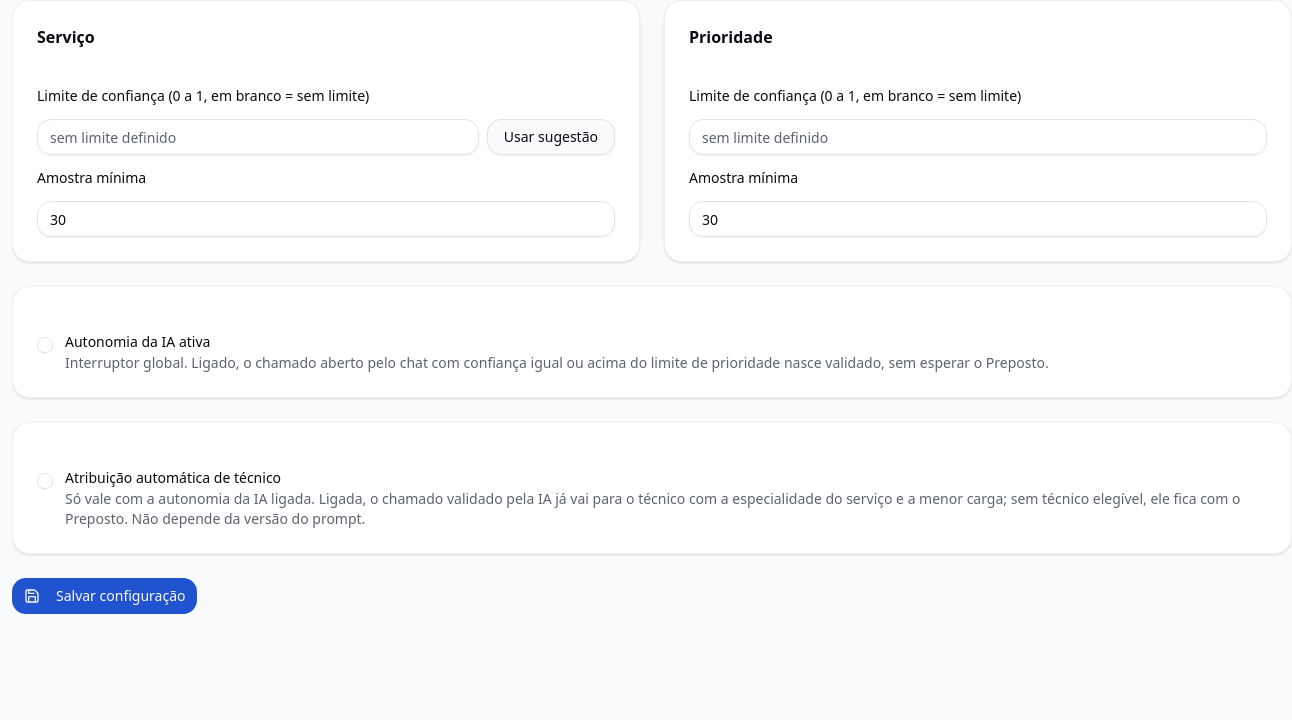
Test: IaConfiancaForm · aceitar a sugestão › preenche o limite do campo com o valor sugerido
What coordinates should you click on to do the following:
click the button "Usar sugestão"
I would click on:
 (551, 137)
Its box is [487,119,615,155].
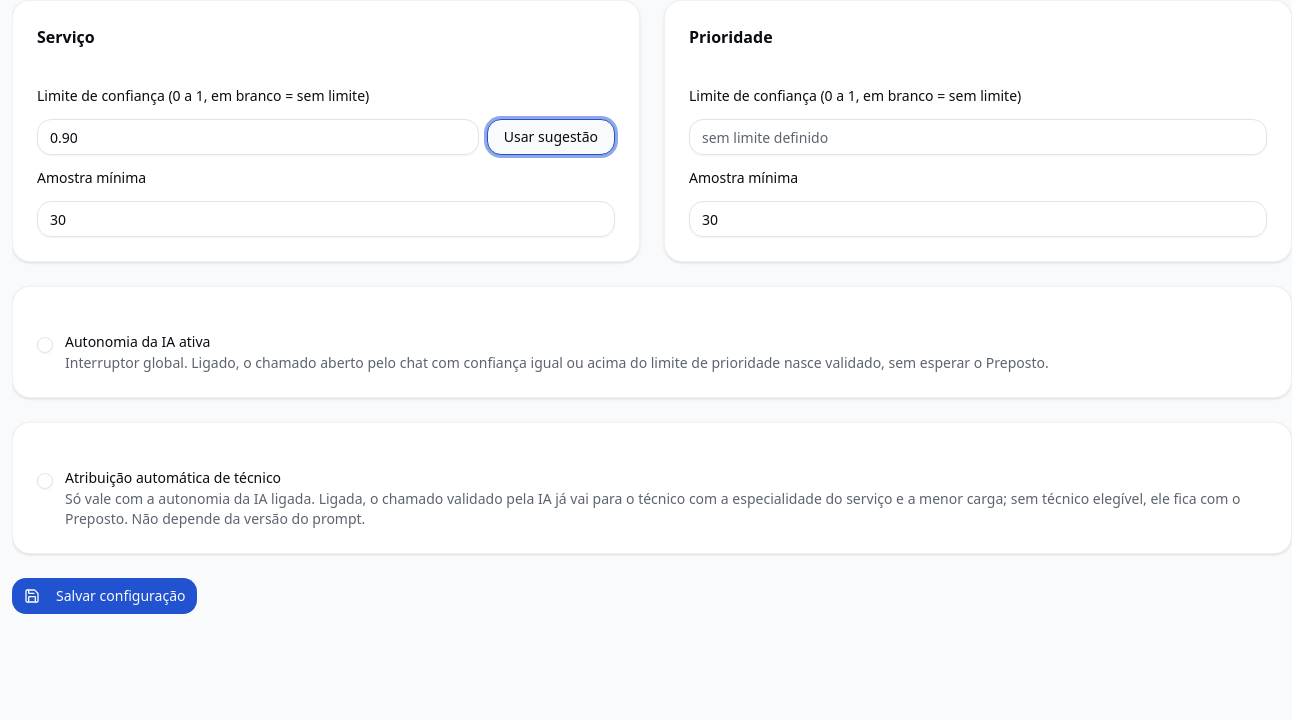
expect the 1st number field labelled "Limite de confiança (0 a 1, em branco = sem limite)" holds "0.9": met, box [37,119,479,155]
